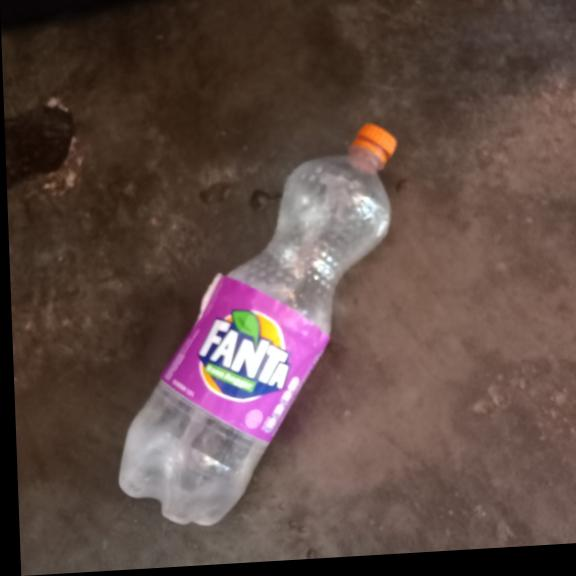Plastik: (107, 120, 410, 531)
